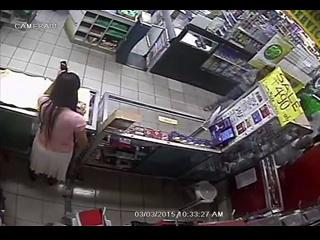Normal: (28, 63, 90, 186)
